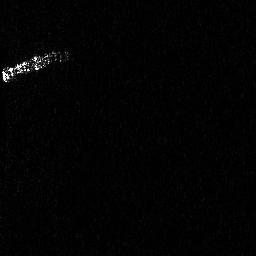ship: (2, 48, 70, 84)
